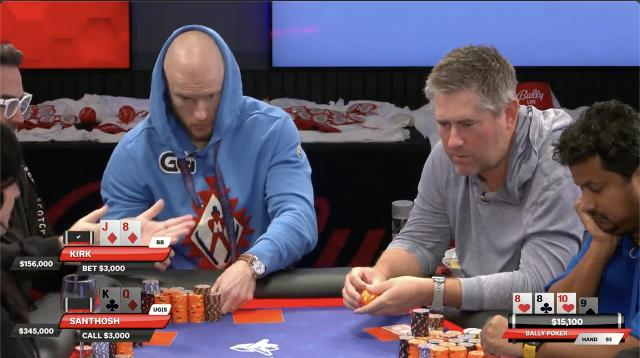10H: (558, 294, 574, 314)
8C: (536, 294, 554, 314)
8D: (121, 220, 139, 246)
8H: (513, 294, 531, 314)
9S: (579, 298, 597, 314)
JD: (100, 220, 120, 246)
KC: (100, 288, 120, 314)
QD: (121, 288, 141, 314)
